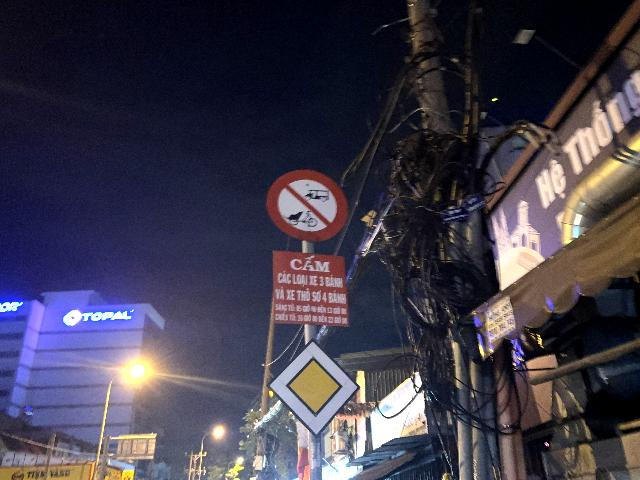bat-dau-duong-uu-tien: (265, 338, 361, 437)
cam-xe-3-banh-xe-tho-so-4-banh: (267, 169, 347, 241)
